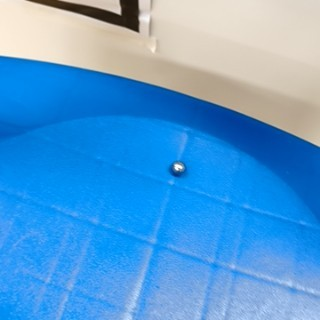ironball: (158, 151, 192, 183)
